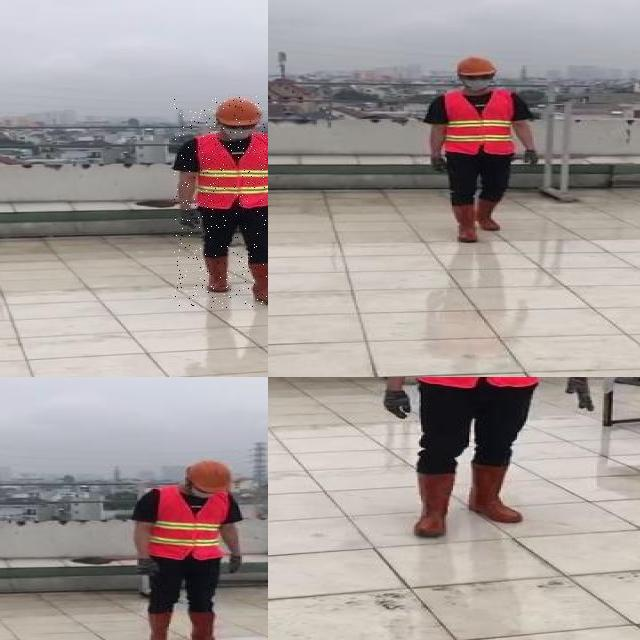boots: (467, 463, 528, 523), (412, 470, 458, 538), (448, 202, 478, 241), (201, 255, 231, 293), (473, 194, 502, 232), (186, 610, 222, 640), (248, 260, 268, 304), (142, 613, 174, 640)
face_mask: (463, 72, 493, 90)
glasses: (461, 72, 495, 82)
hand_glove: (563, 377, 597, 411), (382, 389, 412, 419), (134, 555, 156, 579), (520, 150, 542, 168), (226, 553, 242, 575), (427, 156, 445, 175)
head_helmet: (182, 459, 234, 494), (214, 96, 264, 126), (454, 56, 496, 76)
person: (369, 377, 605, 539), (128, 459, 249, 640), (423, 56, 538, 245), (174, 97, 268, 308)
vest: (148, 486, 226, 560), (194, 133, 268, 209), (443, 90, 516, 157)
